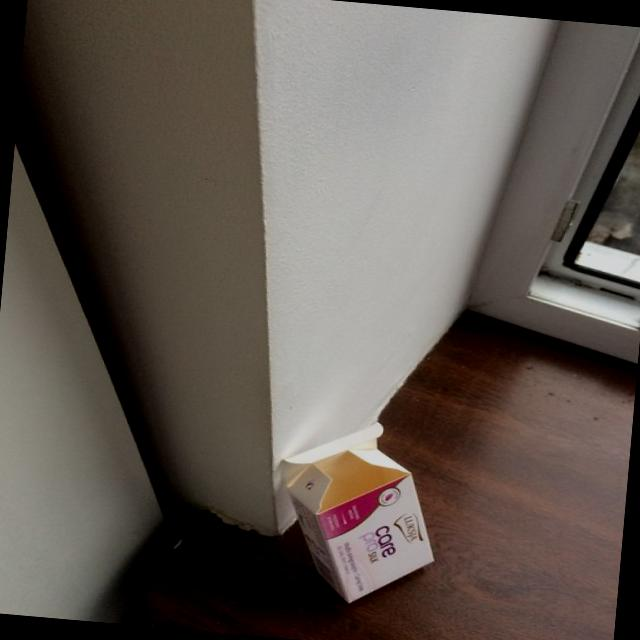Recycle: (264, 413, 448, 613)
